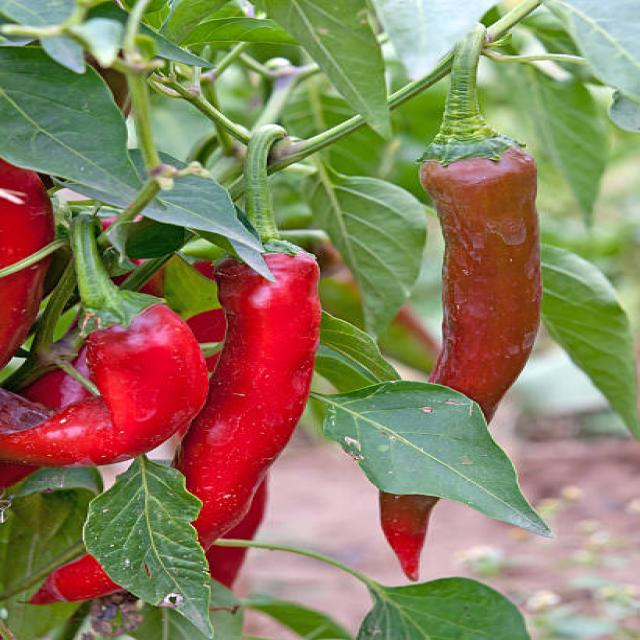Half-Ripe: (421, 147, 539, 419)
Ripe: (176, 256, 317, 577), (0, 302, 208, 467)
